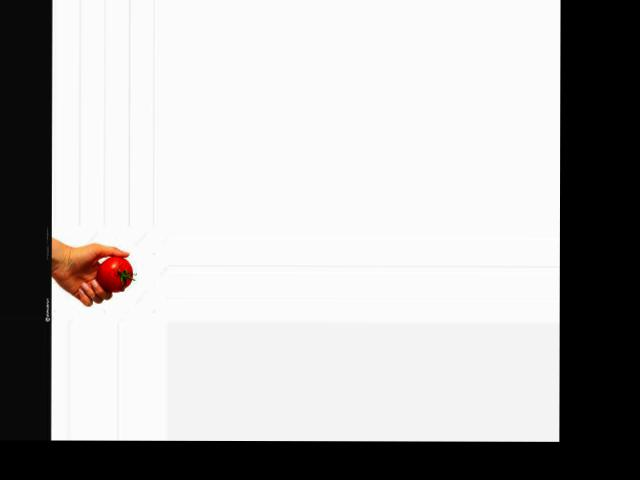tomato: (96, 256, 133, 291)
